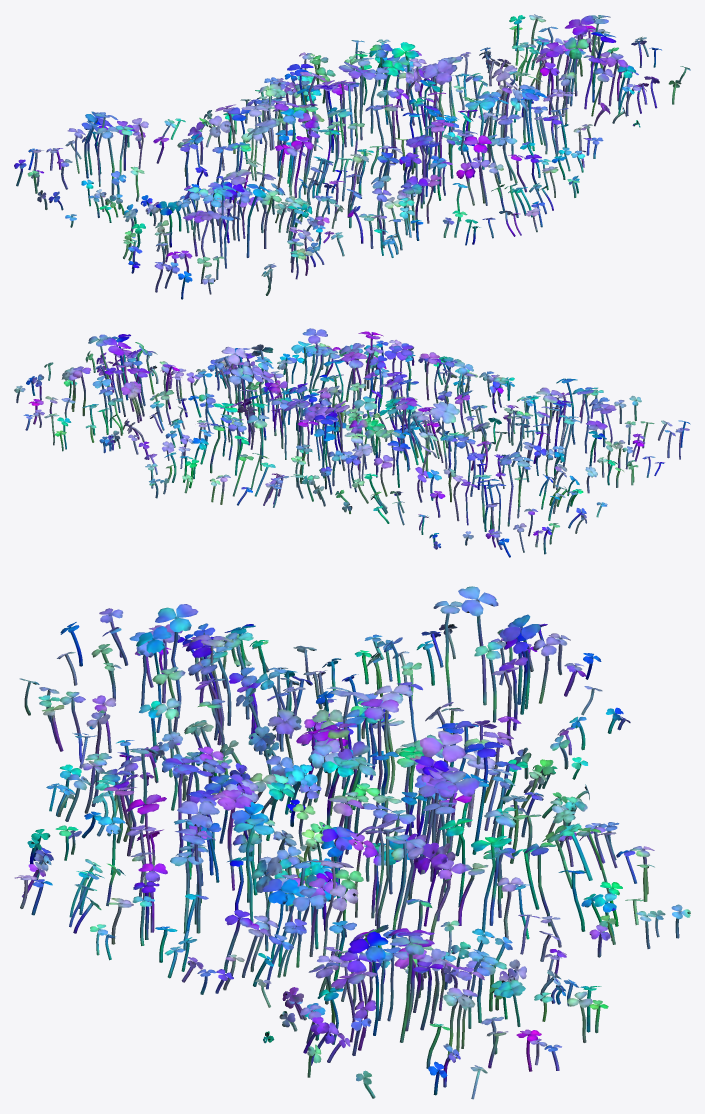
Rendered from clovers.fbx.
The picture shows the model from 3 angles, top to bottom: view 1: azimuth 30°, elevation 25°; view 2: azimuth 150°, elevation 25°; view 3: azimuth 270°, elevation 25°; orthographic projection. The views are drawn at different scales.
Visible parts, largest first — view 1: clovers; view 2: clovers; view 3: clovers.
Boxes of the visible parts, left/top/right/bottom form: clovers: left=14, top=14, right=690, bottom=299; clovers: left=14, top=328, right=690, bottom=557; clovers: left=14, top=586, right=690, bottom=1099.
Bounding box in the file's own units: 177 × 20.82 × 112.
Materials: 1 (1 with a texture image).
